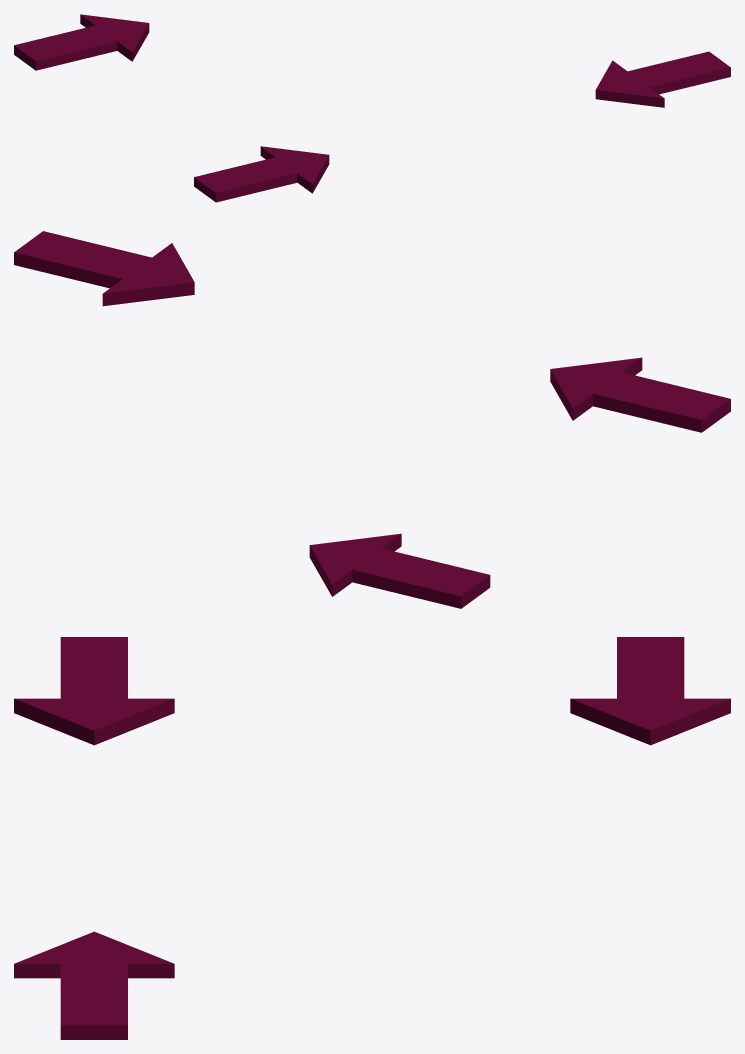
Rendered from accessi.obj.
3 views of the same model, one above another, from view 1: azimuth 30°, elevation 25°; view 2: azimuth 150°, elevation 25°; view 3: azimuth 270°, elevation 25° (orthographic). The views are drawn at different scales.
Parts seen in each view (by area): view 1: AR 1 ACCESSI; view 2: AR 1 ACCESSI; view 3: AR 1 ACCESSI.
Boxes of the visible parts, left/top/right/bottom form: AR 1 ACCESSI: left=14, top=14, right=730, bottom=202; AR 1 ACCESSI: left=14, top=231, right=730, bottom=608; AR 1 ACCESSI: left=14, top=637, right=730, bottom=1039.
Size of the model in its own units: 286 by 5 by 223.
